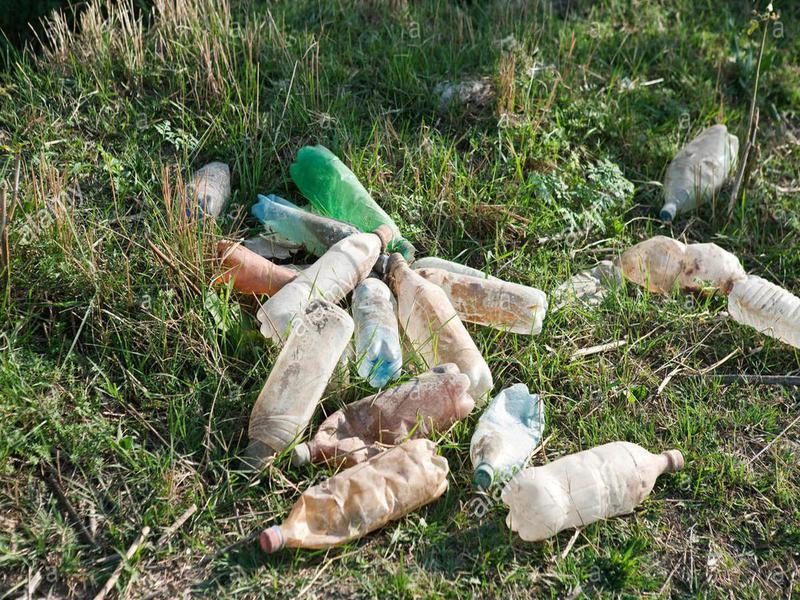bottle: (254, 437, 450, 556), (230, 297, 354, 461), (291, 361, 475, 469), (502, 440, 686, 546), (288, 139, 431, 253), (254, 224, 393, 339), (641, 120, 747, 227), (465, 379, 547, 490), (353, 275, 403, 388)
